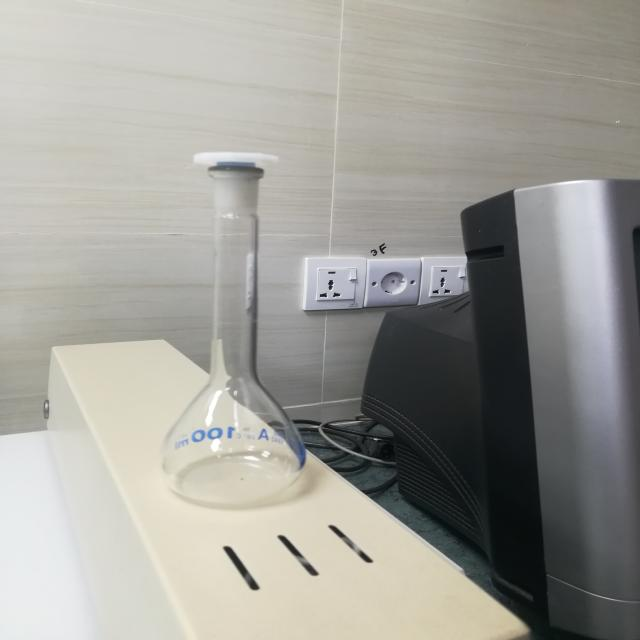Volumetric_Flask: (119, 89, 378, 520)
